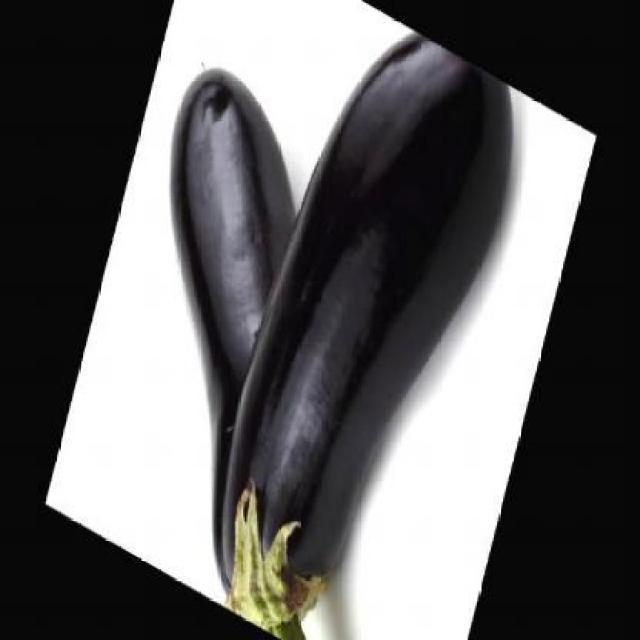eggplant: (189, 0, 540, 638), (162, 47, 346, 595)
